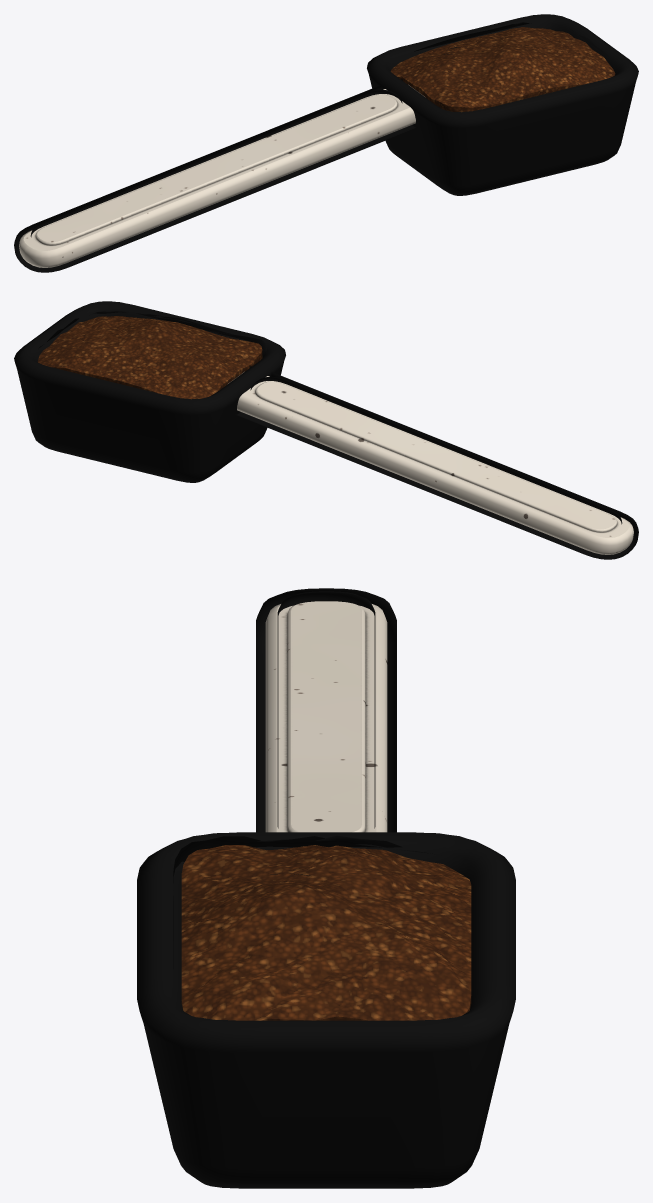
The model's file is Scoop_Full.fbx.
3 views of the same model, one above another, from view 1: azimuth 30°, elevation 25°; view 2: azimuth 150°, elevation 25°; view 3: azimuth 270°, elevation 25° (orthographic). The views are drawn at different scales.
Parts seen in each view (by area): view 1: Scoop_Full; view 2: Scoop_Full; view 3: Scoop_Full.
Boxes of the visible parts, bbox=[...] form: Scoop_Full: bbox=[14, 14, 638, 272]; Scoop_Full: bbox=[14, 301, 638, 559]; Scoop_Full: bbox=[137, 588, 515, 1188].
Bounding box in the file's own units: 0.1508 × 0.028 × 0.0421.
1 material, 1 textured.
